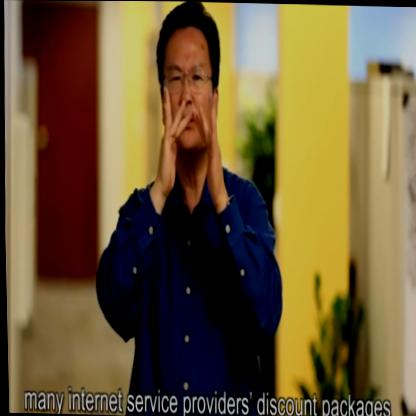Internet: (150, 67, 224, 196)
